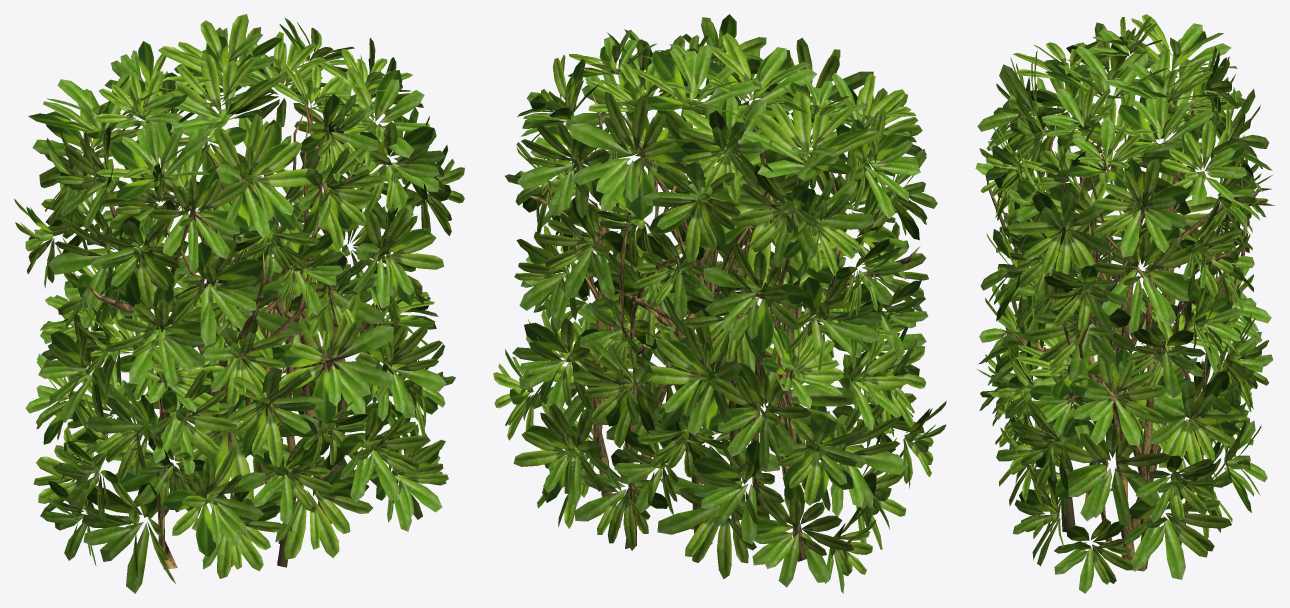
The model's file is high-hedge.obj.
3 views of the same model, side by side, from view 1: azimuth 30°, elevation 25°; view 2: azimuth 150°, elevation 25°; view 3: azimuth 270°, elevation 25° (orthographic). The views are drawn at different scales.
Parts seen in each view (by area): view 1: leaves_Plane.020, branches_stems_1.003; view 2: leaves_Plane.020, branches_stems_1.003; view 3: leaves_Plane.020, branches_stems_1.003.
Boxes of the visible parts, x1=… form: leaves_Plane.020: x1=14, y1=14, x2=464, y2=593; branches_stems_1.003: x1=84, y1=61, x2=395, y2=569; leaves_Plane.020: x1=493, y1=14, x2=946, y2=593; branches_stems_1.003: x1=526, y1=64, x2=919, y2=561; leaves_Plane.020: x1=975, y1=14, x2=1273, y2=593; branches_stems_1.003: x1=986, y1=88, x2=1275, y2=571.
Bounding box in the file's own units: 151 × 179 × 104.
